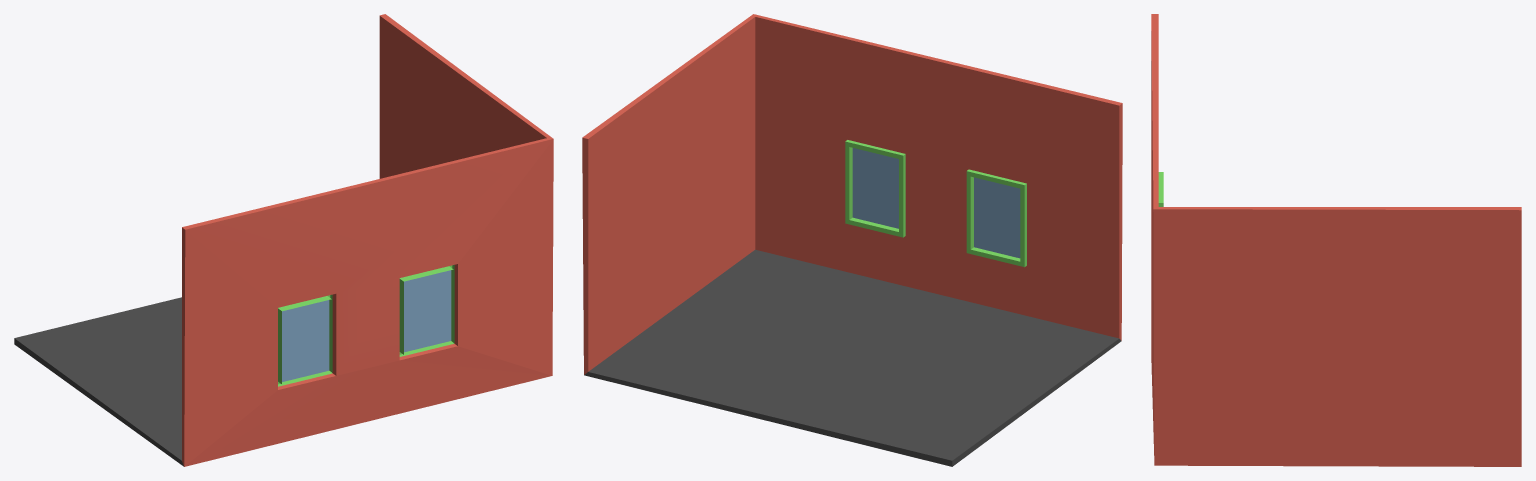
Rendered from Room2.fbx.
The picture shows the model from 3 angles, left to right: view 1: azimuth 30°, elevation 25°; view 2: azimuth 150°, elevation 25°; view 3: azimuth 270°, elevation 25°; orthographic projection. The views are drawn at different scales.
Parts seen in each view (by area): view 1: Wall2, Floor, Wall1, Glass, Window Frames; view 2: Wall2, Floor, Wall1, Glass, Window Frames; view 3: Wall1, Wall2.
Boxes of the visible parts, left/top/right/bottom form: Wall2: left=182, top=138, right=553, bottom=466; Floor: left=14, top=297, right=183, bottom=466; Wall1: left=379, top=14, right=553, bottom=178; Glass: left=282, top=270, right=451, bottom=381; Window Frames: left=278, top=265, right=454, bottom=386; Wall2: left=753, top=14, right=1122, bottom=340; Floor: left=584, top=249, right=1121, bottom=466; Wall1: left=582, top=14, right=755, bottom=374; Glass: left=852, top=148, right=1020, bottom=258; Window Frames: left=845, top=140, right=1026, bottom=267; Wall1: left=1153, top=207, right=1521, bottom=466; Wall2: left=1151, top=14, right=1158, bottom=455.
Size of the model in its own units: 499 by 308 by 398.
